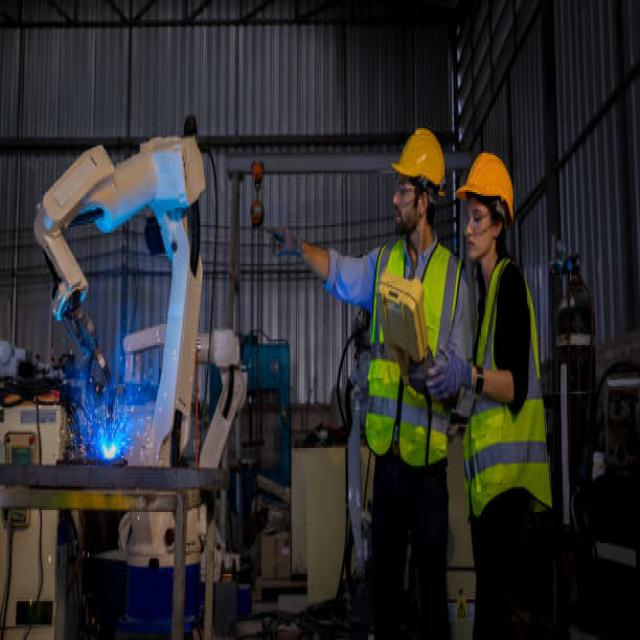Robotic-arm: (30, 121, 208, 467)
